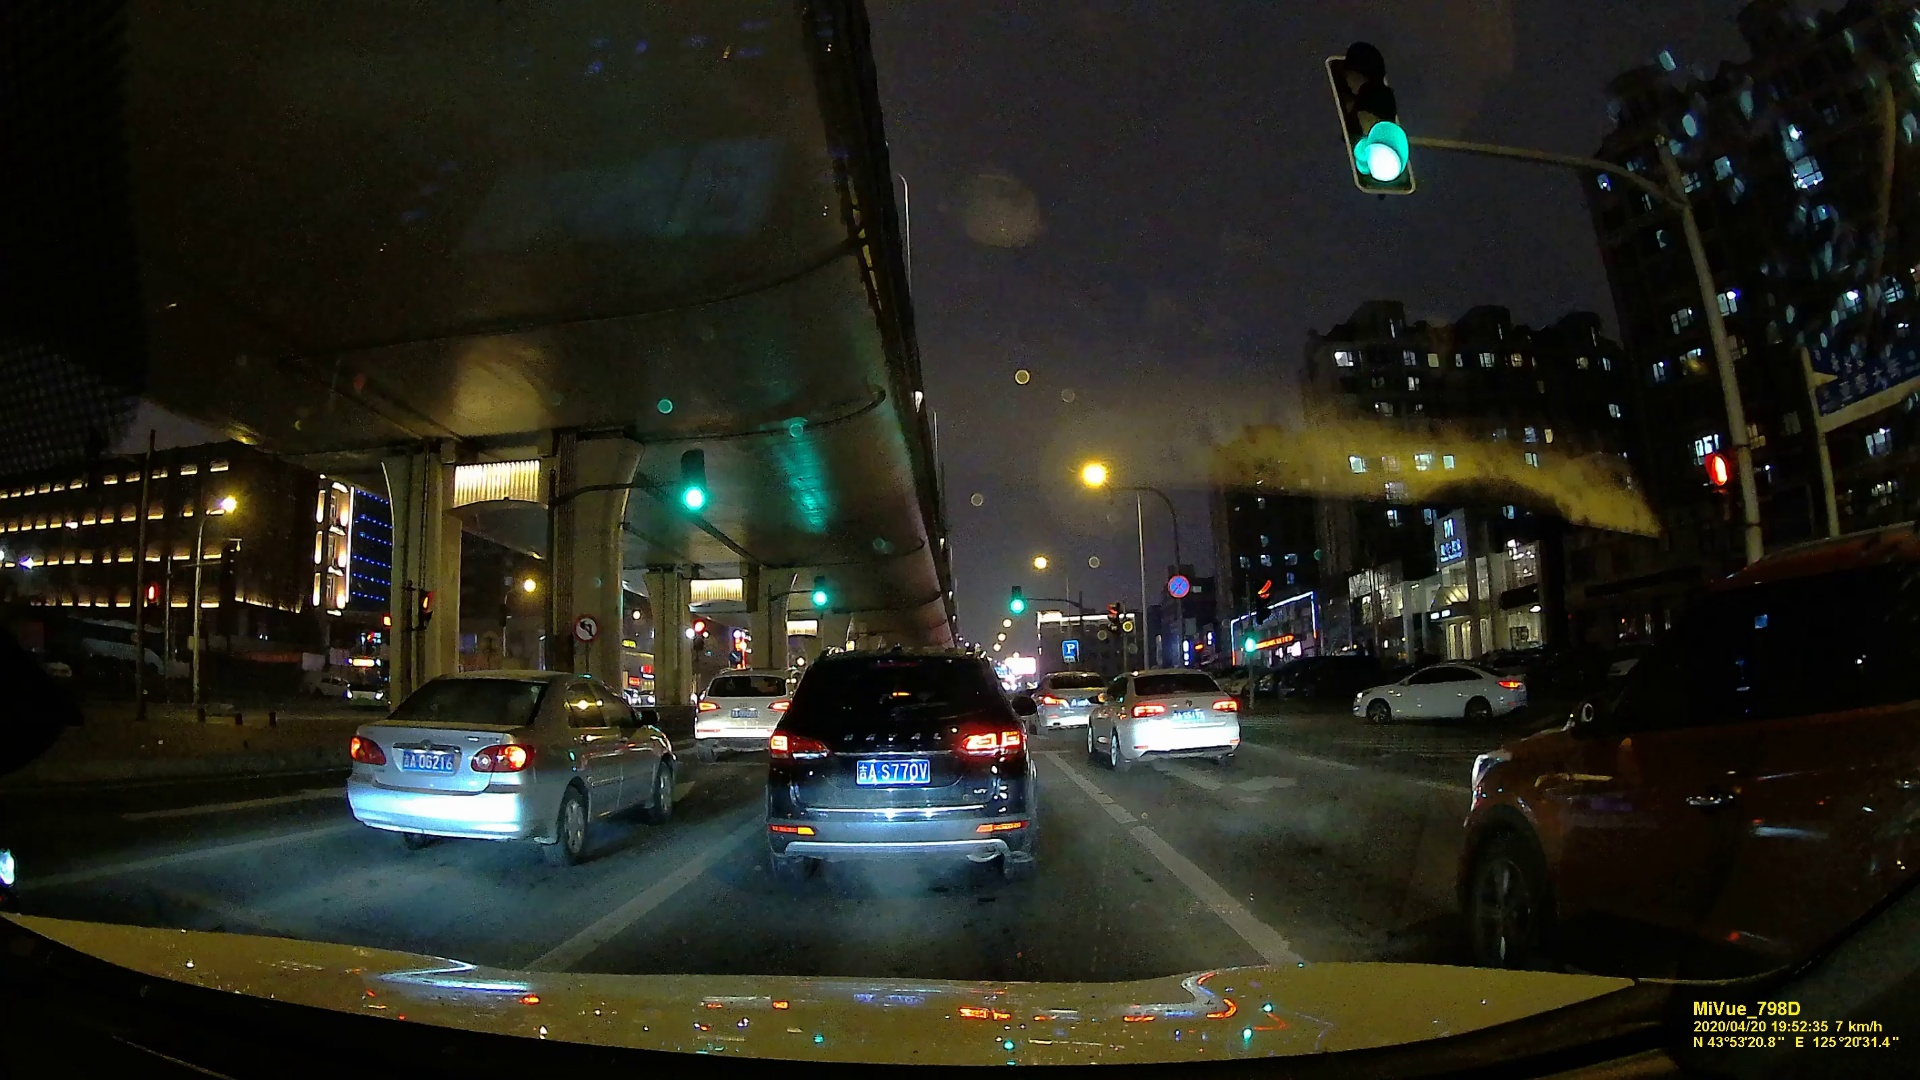traffic_sign: (1317, 51, 1414, 198), (1695, 442, 1747, 527), (679, 448, 709, 512), (415, 592, 435, 632), (574, 616, 603, 642), (1167, 572, 1192, 601), (1255, 580, 1274, 618), (1007, 585, 1027, 617), (812, 576, 829, 607), (1106, 604, 1121, 633), (1063, 640, 1080, 662)
vehicle: (1461, 530, 1913, 996), (339, 665, 684, 868), (767, 644, 1038, 891), (1085, 665, 1245, 773), (1352, 659, 1538, 728), (692, 666, 789, 753)
